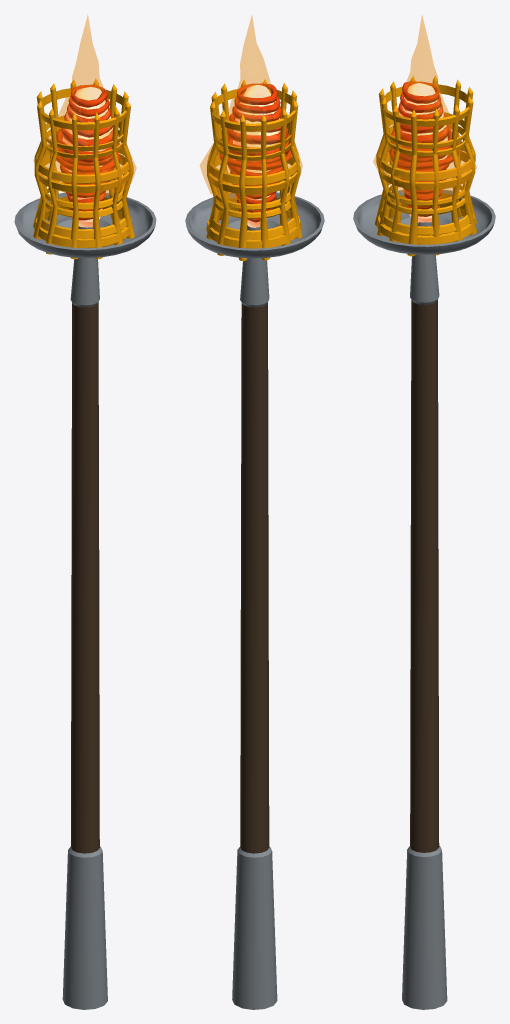
3 views of the same model, side by side, from view 1: azimuth 90°, elevation 25°; view 2: azimuth 150°, elevation 25°; view 3: azimuth 270°, elevation 25° (orthographic).
Visible parts, largest first — view 1: torche_metallic_clean.001, torche_fire_flame.001; view 2: torche_metallic_clean.001, torche_fire_flame.001; view 3: torche_metallic_clean.001, torche_fire_flame.001.
Part boxes in pixels (x1,y1,x2,y2): torche_metallic_clean.001: (14,79,156,1009); torche_fire_flame.001: (33,15,136,198); torche_metallic_clean.001: (185,79,324,1009); torche_fire_flame.001: (200,16,302,199); torche_metallic_clean.001: (353,75,495,1009); torche_fire_flame.001: (373,16,476,199).
Size of the model in its own units: 0.3871 by 3.04 by 0.3969.
